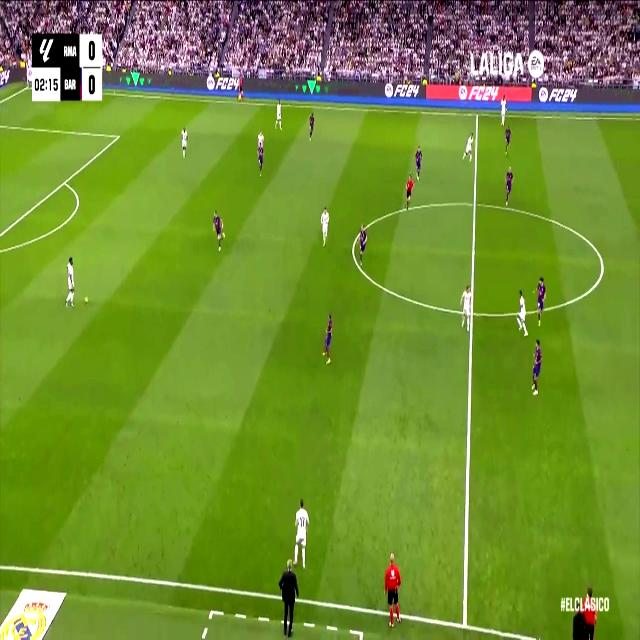bigarea_top_inner: (115, 129, 121, 143)
corner: (23, 81, 31, 92)
halfcircle_bottom: (467, 303, 478, 324)
halfcircle_top: (469, 191, 481, 216)
midline_bottom_intersection: (456, 608, 474, 637)
midline_top_intersection: (474, 108, 481, 121)
top_arc_area_intersection: (60, 174, 68, 190)
